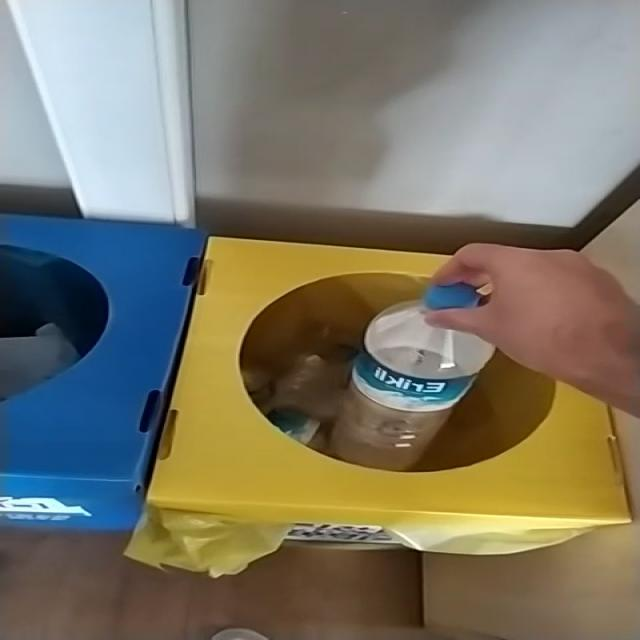plastic: (329, 283, 495, 471)
